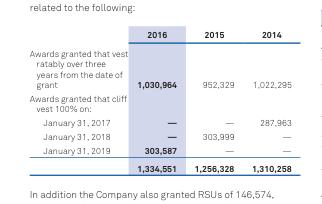table: (28, 28, 290, 173)
table column: (28, 28, 131, 173), (184, 28, 242, 173), (131, 28, 184, 173), (242, 28, 290, 173)
table column header: (28, 28, 290, 43)
table projected row header: (28, 91, 290, 115)
table row: (28, 43, 290, 91), (28, 91, 290, 115), (28, 28, 290, 43), (28, 143, 290, 158), (28, 158, 290, 173), (28, 115, 290, 129), (28, 129, 290, 143)
